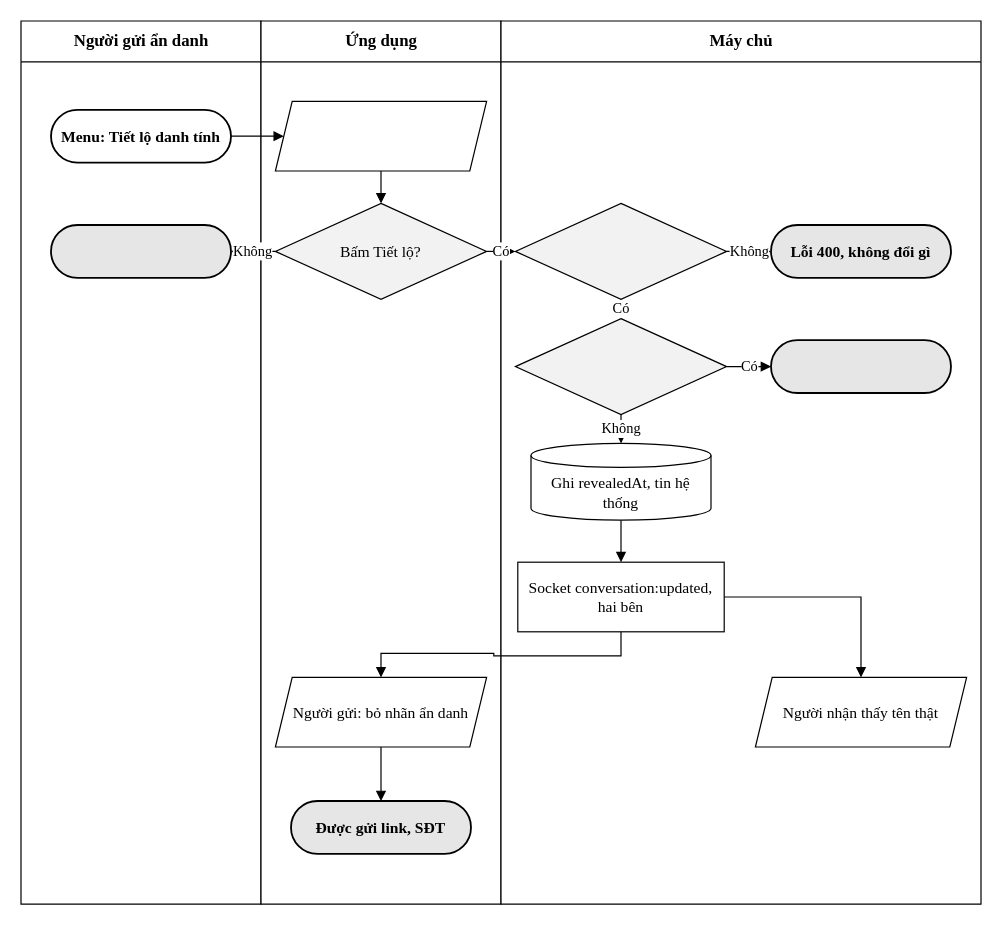
The diagram is 1002 pixels wide and 925 high, and some of its shapes have lost their labels. Each missing label, with the centre of its shape:
"Hộp xác nhận: không thu hồi" goes at (x=380, y=135).
"Là bên ẩn danh?" goes at (x=620, y=250).
"Trả hội thoại như cũ" goes at (x=860, y=366).
"Vẫn ẩn danh" goes at (x=140, y=251).
"Đã tiết lộ trước đó?" goes at (x=620, y=366).
